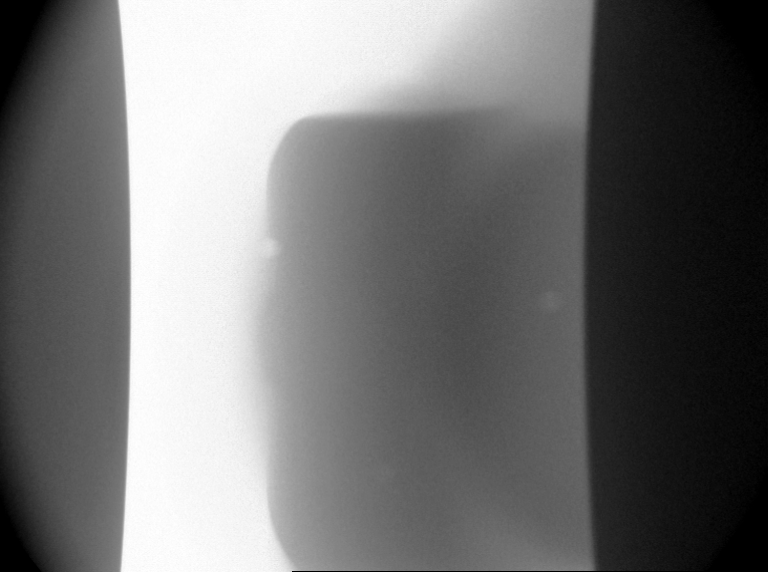defect: (256, 235, 284, 261)
